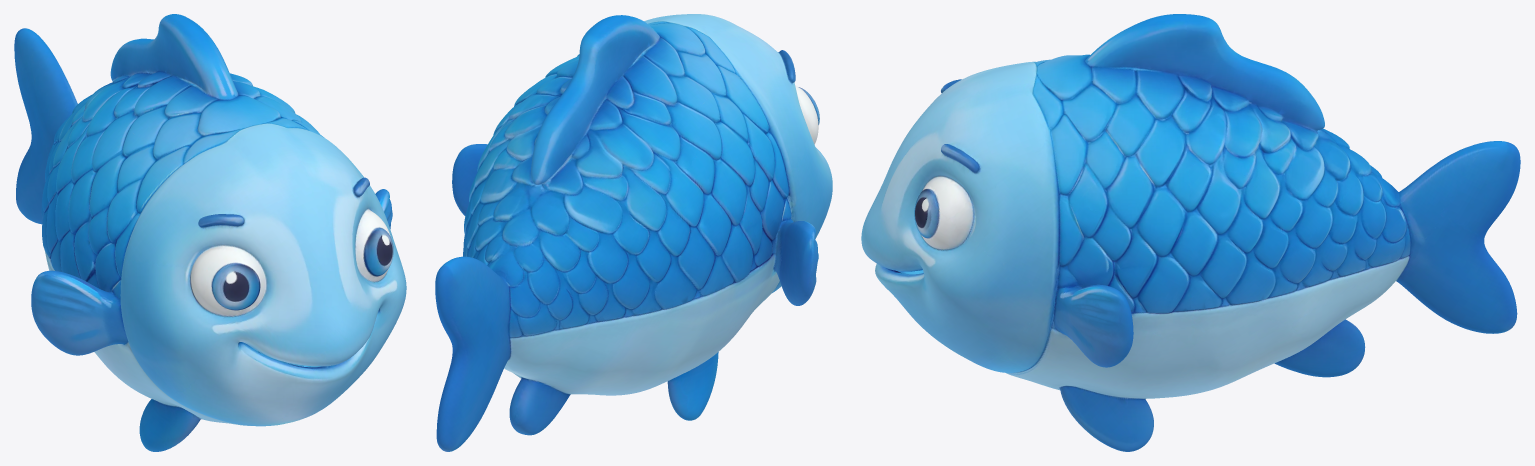
File: Pesce.glb
The picture shows the model from 3 angles, left to right: view 1: azimuth 30°, elevation 25°; view 2: azimuth 150°, elevation 25°; view 3: azimuth 270°, elevation 25°; orthographic projection. The views are drawn at different scales.
Bounding box in the file's own units: 1.22 × 1.29 × 1.9.
Materials: 1 (1 with a texture image).
